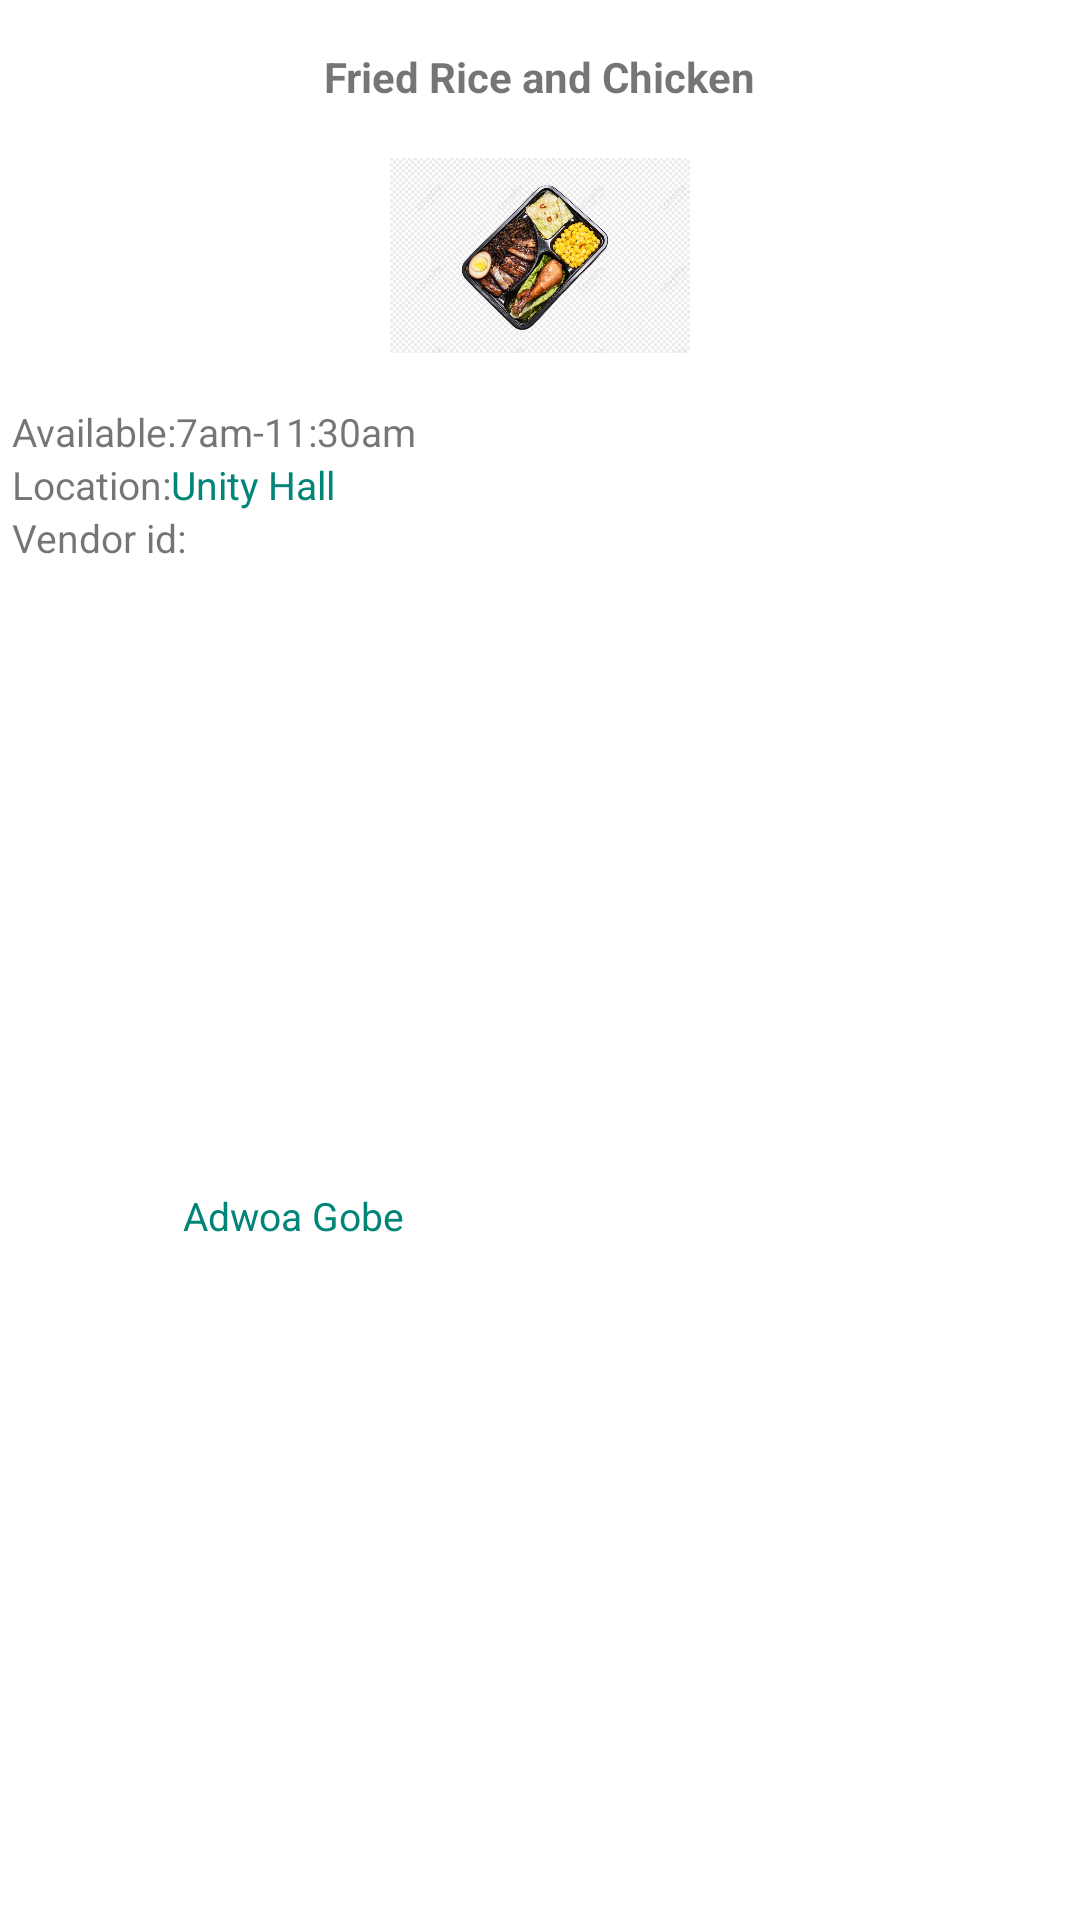

Where icons sit on this 1080px×1920px app screen, as {"left": x1, "top": y1, "right": x2, "bottom": y2}:
supperone: {"left": 392, "top": 159, "right": 690, "bottom": 353}
